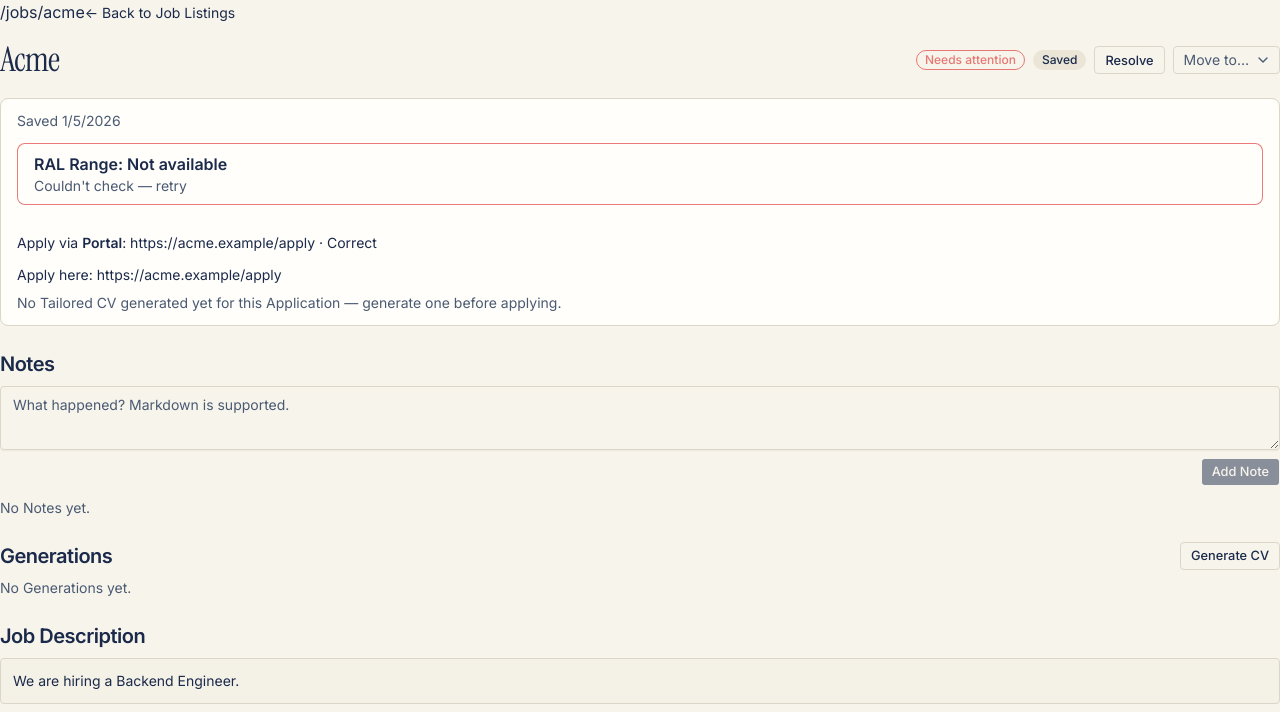
Test: Job Listing RAL Range and resolution on its page › Resolve_Fails_SurfacesTheError
Click the button "Resolve".
click(1130, 60)  # box [1094, 46, 1165, 74]
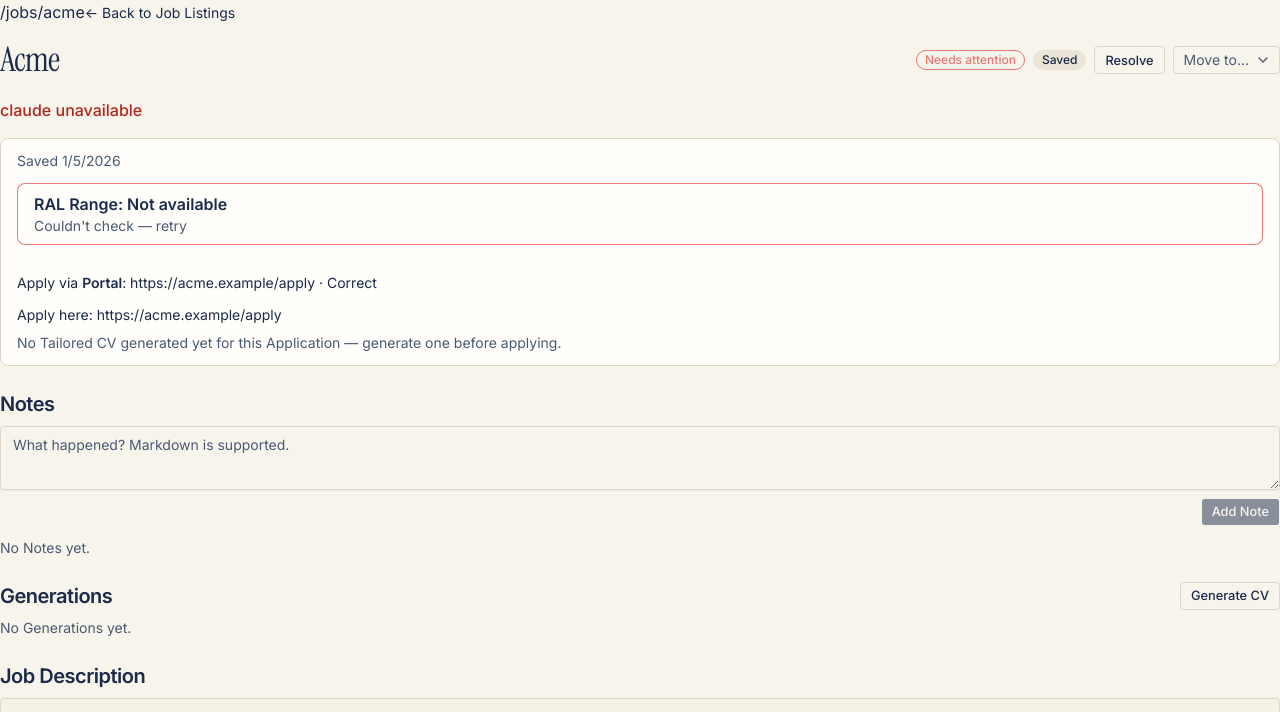
Expected: the message reads "claude unavailable", [0, 100, 142, 120]
